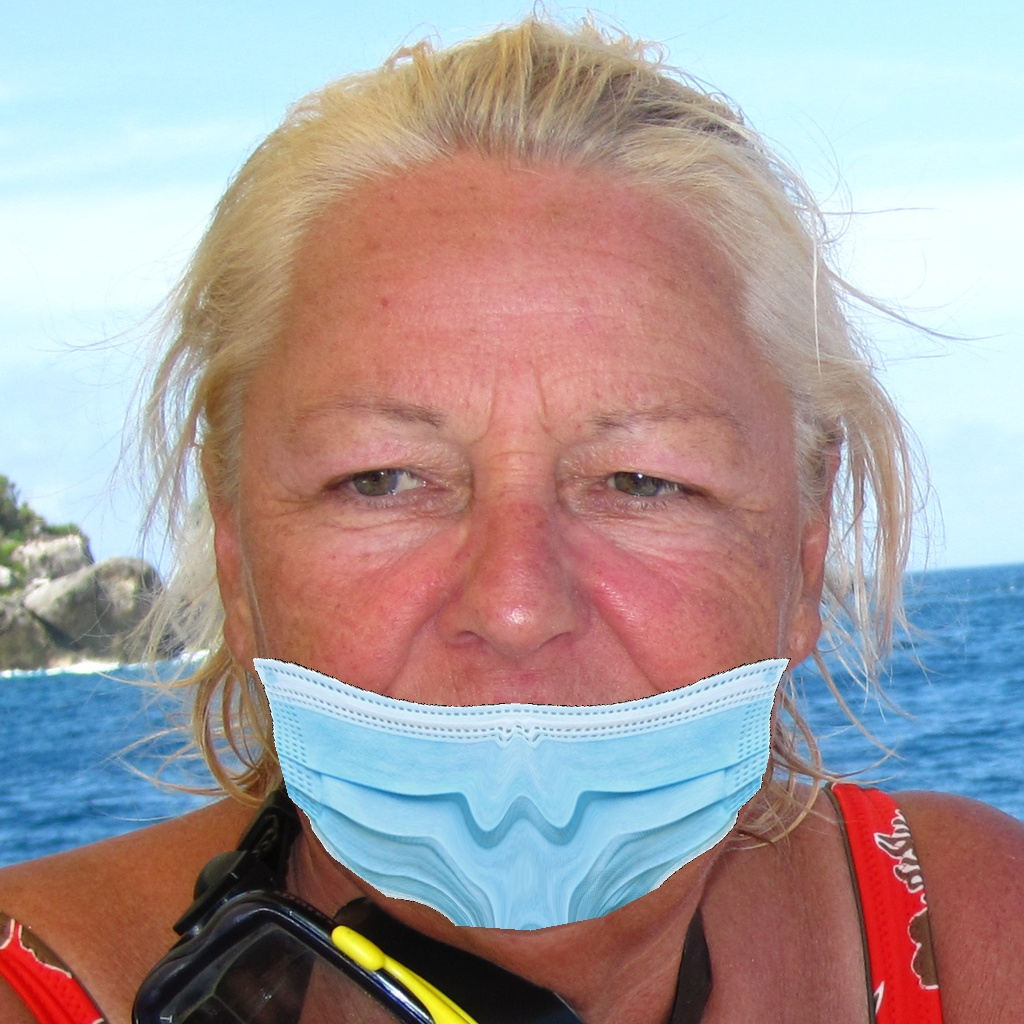mask_weared_incorrect: (255, 413, 793, 937)
